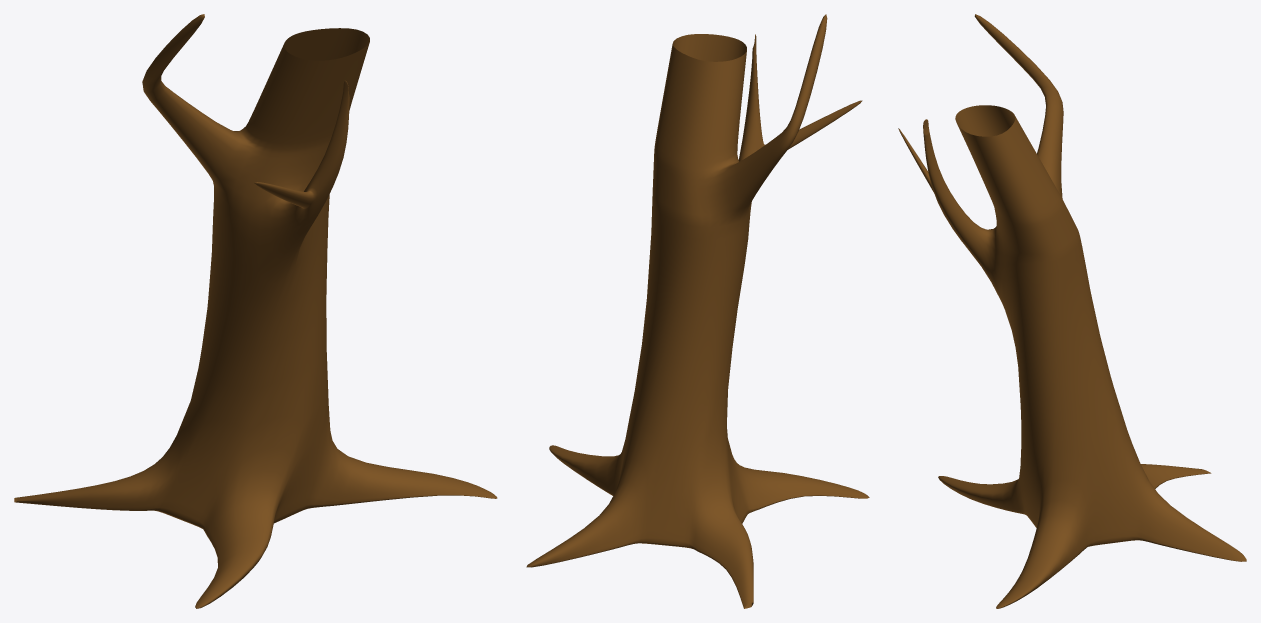
File: tree_4.fbx
3 views of the same model, side by side, from view 1: azimuth 30°, elevation 25°; view 2: azimuth 150°, elevation 25°; view 3: azimuth 270°, elevation 25° (orthographic). The views are drawn at different scales.
Parts seen in each view (by area): view 1: pCylinder9; view 2: pCylinder9; view 3: pCylinder9.
Part boxes in pixels (box(x1,y1,x2,y2)): pCylinder9: box(14, 14, 497, 608); pCylinder9: box(526, 14, 869, 608); pCylinder9: box(898, 14, 1246, 608).
Size of the model in its own units: 364 by 562 by 371.
